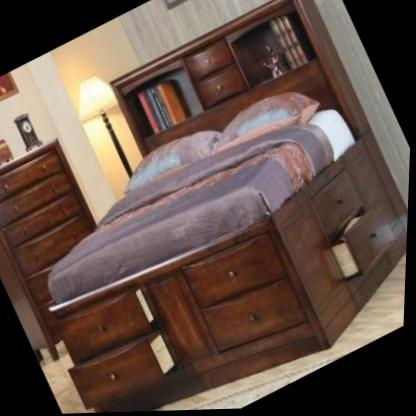Bed: (0, 51, 414, 416)
